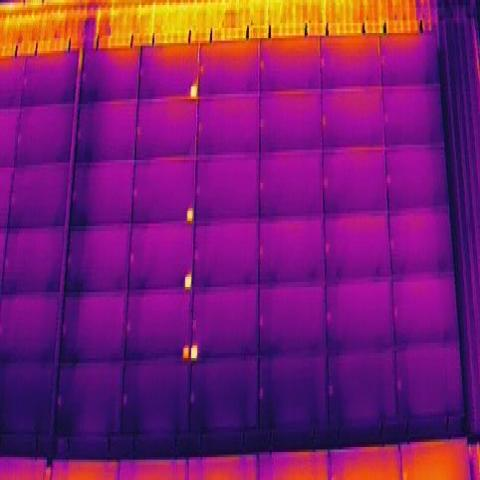fault: (182, 267, 192, 292), (185, 203, 194, 229), (188, 80, 199, 100), (180, 342, 190, 364), (190, 342, 198, 364)
